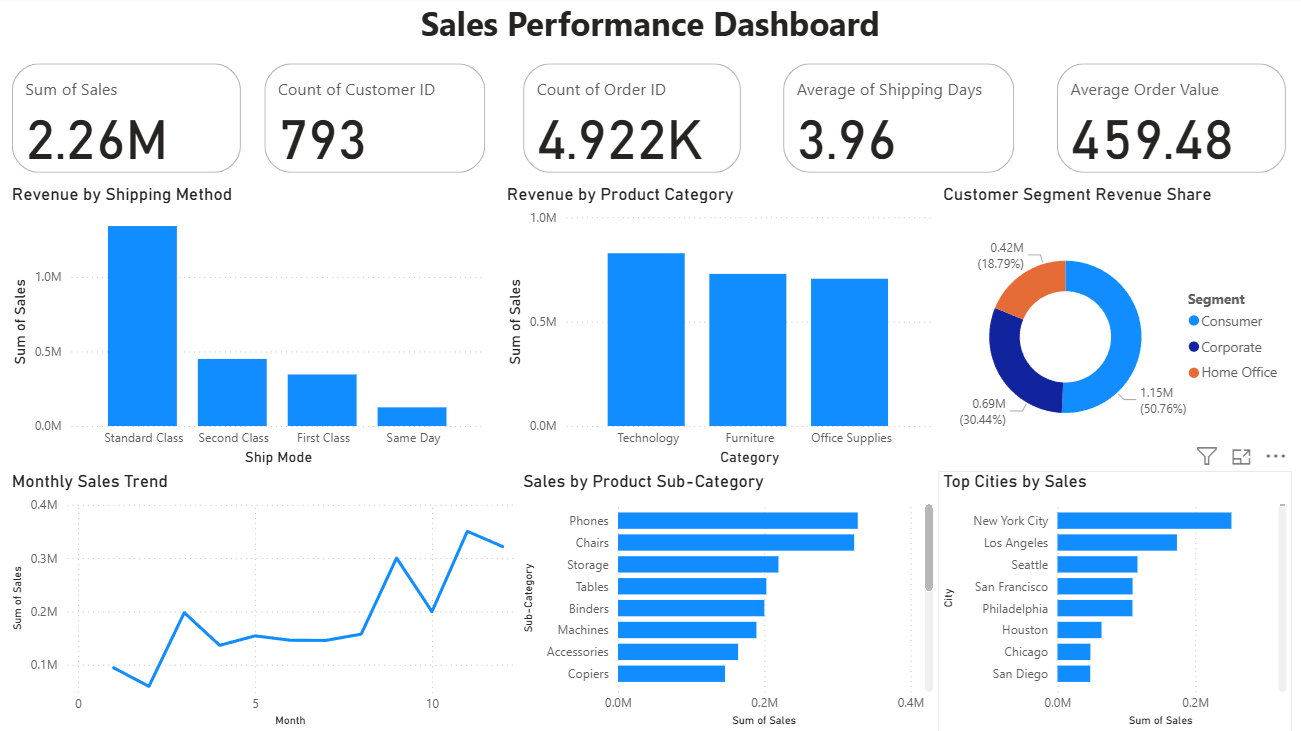

The dashboard page shown, as its layout file describes it:
{"tool":"powerbi","page":{"name":"Sales Performance Dashboard","canvas":[1280,720],"ordinal":0},"visuals":[{"type":"cardVisual","fields":{"Data":["Sum(train.Sales)"]},"box":[9.6,0,234.6,140],"z":0},{"type":"cardVisual","fields":{"Data":["Count(train.Customer ID)"]},"box":[256.6,0,226.6,139.7],"z":1000},{"type":"cardVisual","fields":{"Data":["Count(train.Order ID)"]},"box":[510.3,0,223.8,139.7],"z":2000},{"type":"cardVisual","fields":{"Data":["Avg(train.Shipping Days)"]},"box":[764,0,236.6,139.7],"z":3000},{"type":"clusteredColumnChart","title":"Revenue by Shipping Method","fields":{"Category":["train.Ship Mode"],"Y":["Sum(train.Sales)"]},"box":[9.8,139.4,473.2,325.3],"z":4000},{"type":"cardVisual","fields":{"Data":["train.Average Order Value"]},"box":[1032,0,235.2,139.7],"z":5000},{"type":"lineChart","title":"Monthly Sales Trend","fields":{"Y":["Sum(train.Sales)"],"Category":["train.Month"]},"box":[9.8,464.7,500.1,255.6],"z":6000},{"type":"clusteredColumnChart","title":"Revenue by Product Category","fields":{"Category":["train.Category"],"Y":["Sum(train.Sales)"]},"box":[494,139.4,426.8,325.3],"z":7000},{"type":"clusteredBarChart","title":"Sales by Product Sub-Category","fields":{"Category":["train.Sub-Category"],"Y":["Sum(train.Sales)"]},"box":[510,465,411,255],"z":8000},{"type":"donutChart","title":"Customer Segment Revenue Share","fields":{"Y":["Sum(train.Sales)"],"Category":["train.Segment"]},"box":[920.8,139.4,346.1,325.3],"z":9000},{"type":"clusteredBarChart","title":"Top Cities by Sales","fields":{"Category":["train.City"],"Y":["Sum(train.Sales)"]},"box":[921,465,346,255],"z":10000}]}

Visuals, with their boxes in screenshot pixels (x1, y1, x2, y2), scaled from the page's 1280x720 canvas onto the 1301x731 screenshot:
cardVisual - Sum(train.Sales): [x1=10, y1=0, x2=248, y2=142]
cardVisual - Count(train.Customer ID): [x1=261, y1=0, x2=491, y2=142]
cardVisual - Count(train.Order ID): [x1=519, y1=0, x2=746, y2=142]
cardVisual - Avg(train.Shipping Days): [x1=777, y1=0, x2=1017, y2=142]
"Revenue by Shipping Method" clusteredColumnChart: [x1=10, y1=142, x2=491, y2=472]
cardVisual - train.Average Order Value: [x1=1049, y1=0, x2=1288, y2=142]
"Monthly Sales Trend" lineChart: [x1=10, y1=472, x2=518, y2=730]
"Revenue by Product Category" clusteredColumnChart: [x1=502, y1=142, x2=936, y2=472]
"Sales by Product Sub-Category" clusteredBarChart: [x1=518, y1=472, x2=936, y2=730]
"Customer Segment Revenue Share" donutChart: [x1=936, y1=142, x2=1288, y2=472]
"Top Cities by Sales" clusteredBarChart: [x1=936, y1=472, x2=1288, y2=730]
